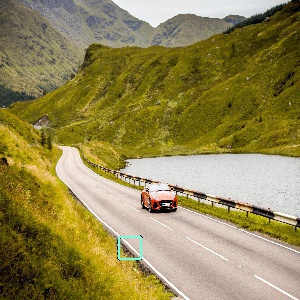square: (115, 233, 145, 264)
